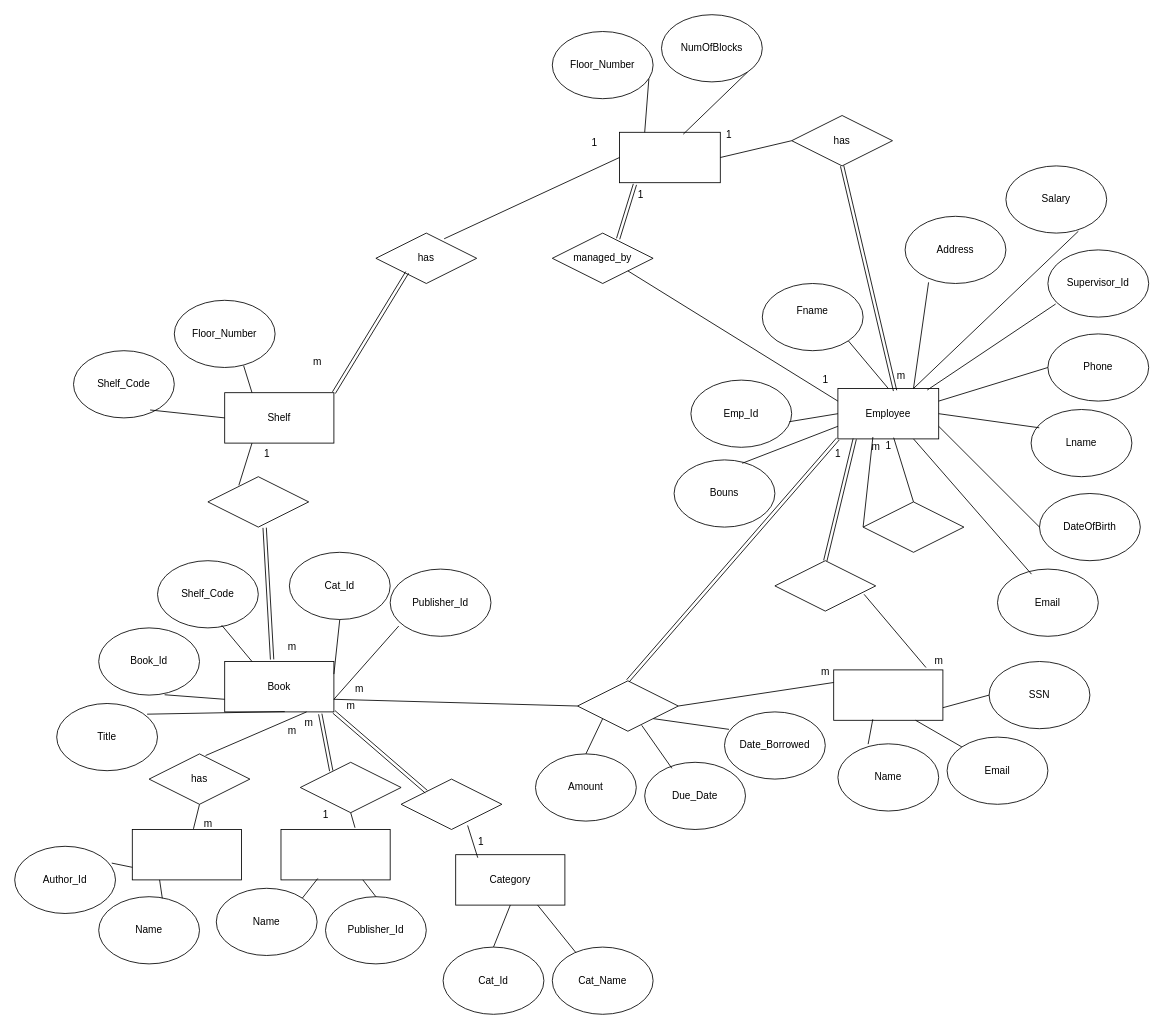
Some shapes in this 1163 by 1029 pixel diagram are drawn without their labels. Here are the shapes that lost their labels. From the top down, the box of each, then its label:
(619, 131, 720, 183): Floor
(207, 476, 309, 527): stores
(862, 501, 964, 552): supervises
(774, 560, 876, 611): records
(577, 680, 678, 731): borrows
(833, 669, 943, 720): User
(299, 761, 401, 813): publishes
(400, 778, 502, 830): classifies
(131, 829, 242, 880): Author
(280, 829, 390, 880): Publisher
